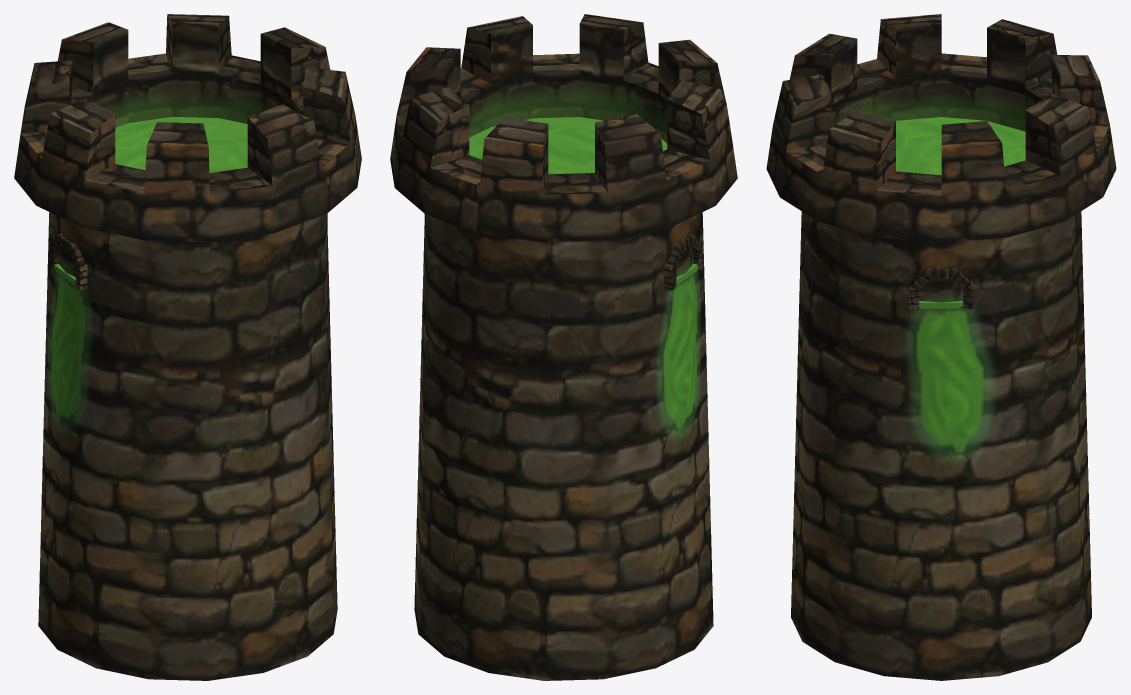
The model's file is Tower2lvl_new.FBX.
3 renders of one model, left to right at view 1: azimuth 30°, elevation 25°; view 2: azimuth 150°, elevation 25°; view 3: azimuth 270°, elevation 25°, orthographic.
Parts seen in each view (by area): view 1: Tower2lvl; view 2: Tower2lvl; view 3: Tower2lvl.
Part boxes in pixels (x1,y1,x2,y2): Tower2lvl: (14,14,361,680); Tower2lvl: (390,14,737,680); Tower2lvl: (766,14,1116,680).
Size of the model in its own units: 6.24 by 10.69 by 6.24.
